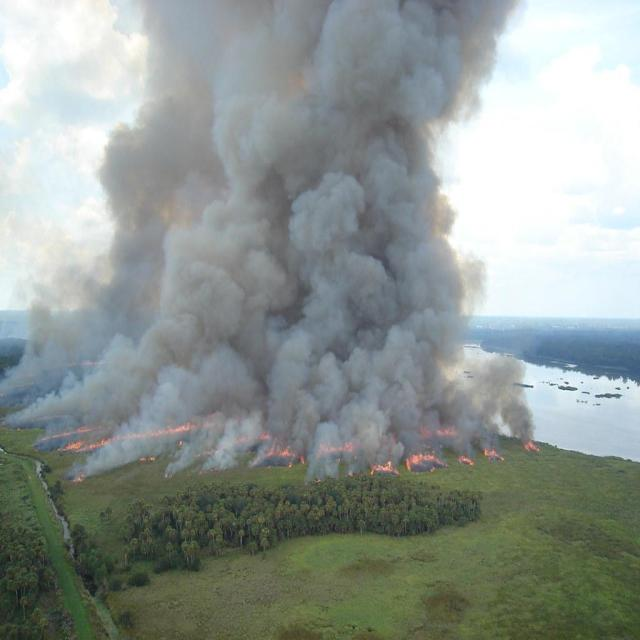Fire: (58, 419, 192, 442), (262, 443, 304, 471), (407, 449, 443, 476), (318, 437, 354, 454), (369, 459, 399, 479), (430, 422, 458, 437), (457, 450, 475, 468), (485, 445, 503, 463), (139, 451, 158, 464), (522, 439, 537, 453), (83, 358, 103, 367), (72, 472, 84, 484), (259, 432, 270, 439)
